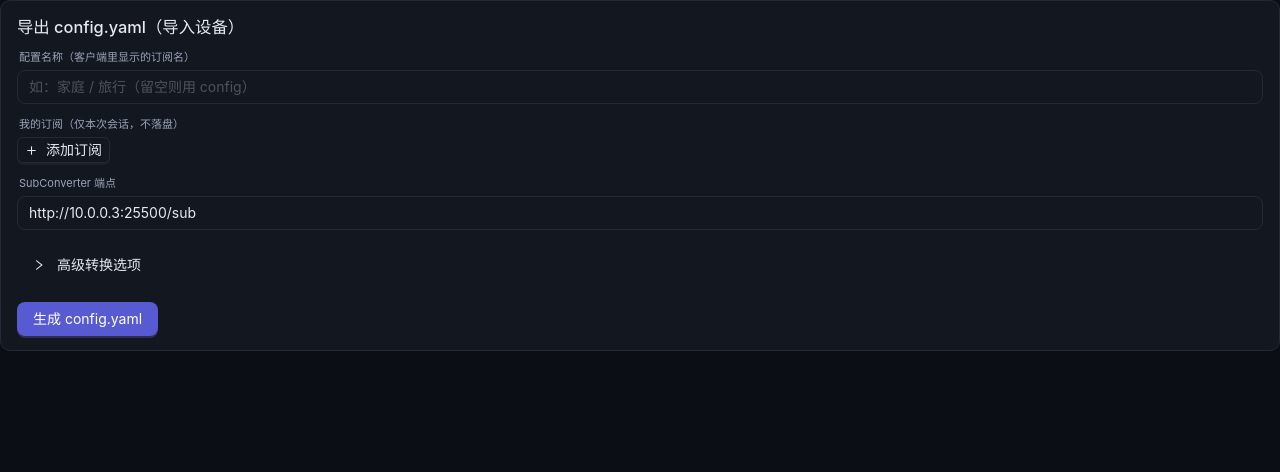
Scenario: reports an unreachable subconverter endpoint when the conversion request fails
The width and height of the screenshot is (1280, 472).
Click the button "添加订阅" at (64, 150), box [17, 138, 110, 163]
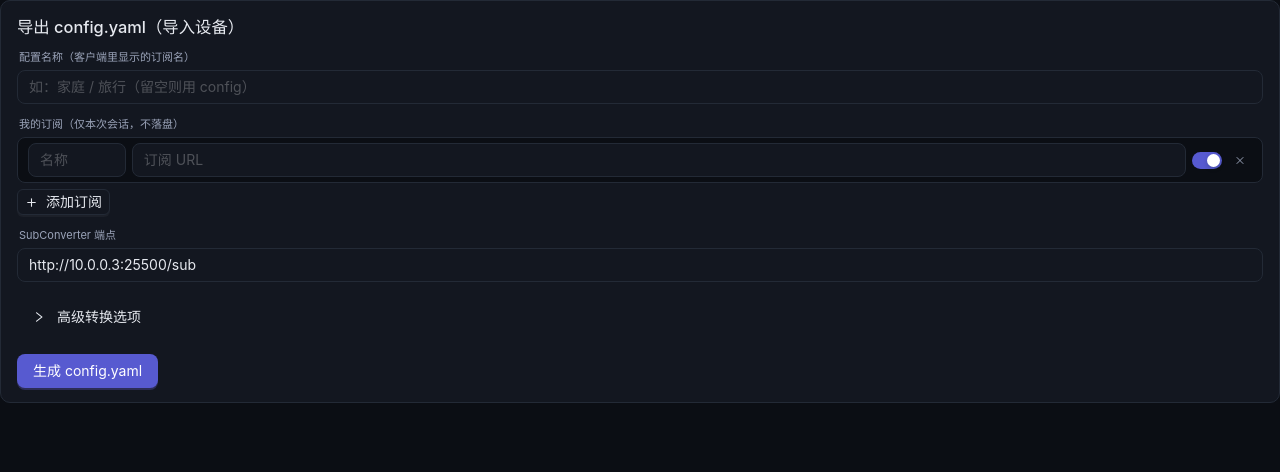
Type "https://air/sub" into the field with placeholder "订阅 URL" at (659, 160), box [132, 144, 1186, 178]
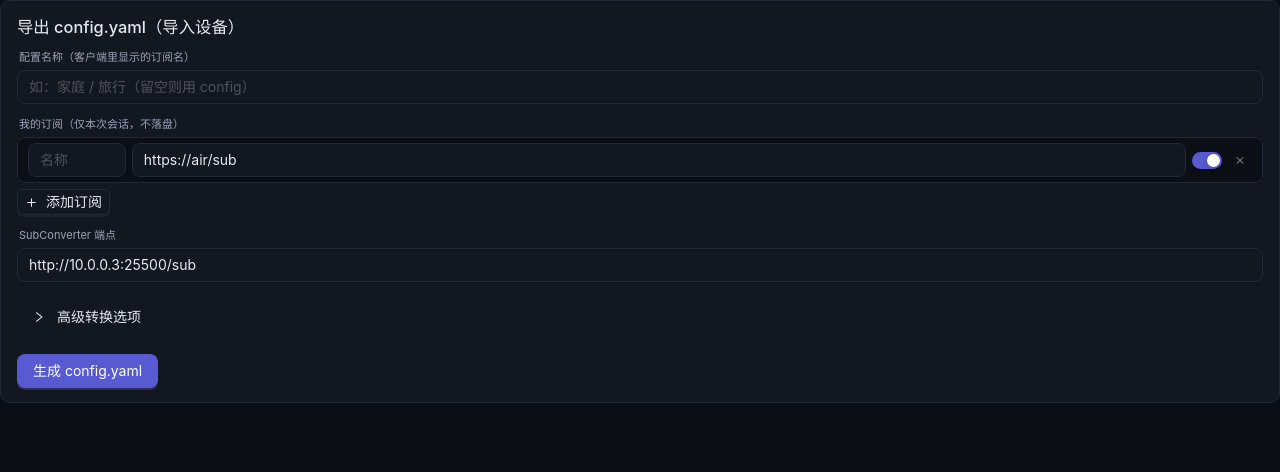
Click the button "生成 config.yaml" at (88, 371), box [17, 354, 158, 388]
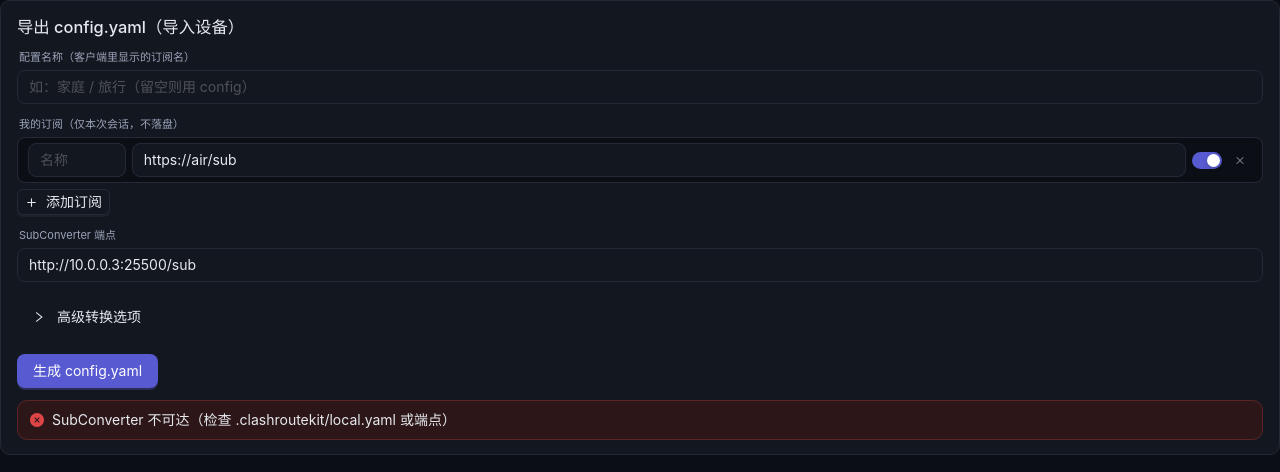
Check: the message with test id "generate-failure" reads "SubConverter 不可达（检查 .clashroutekit/local.yaml 或端点）", box [52, 411, 456, 428]
